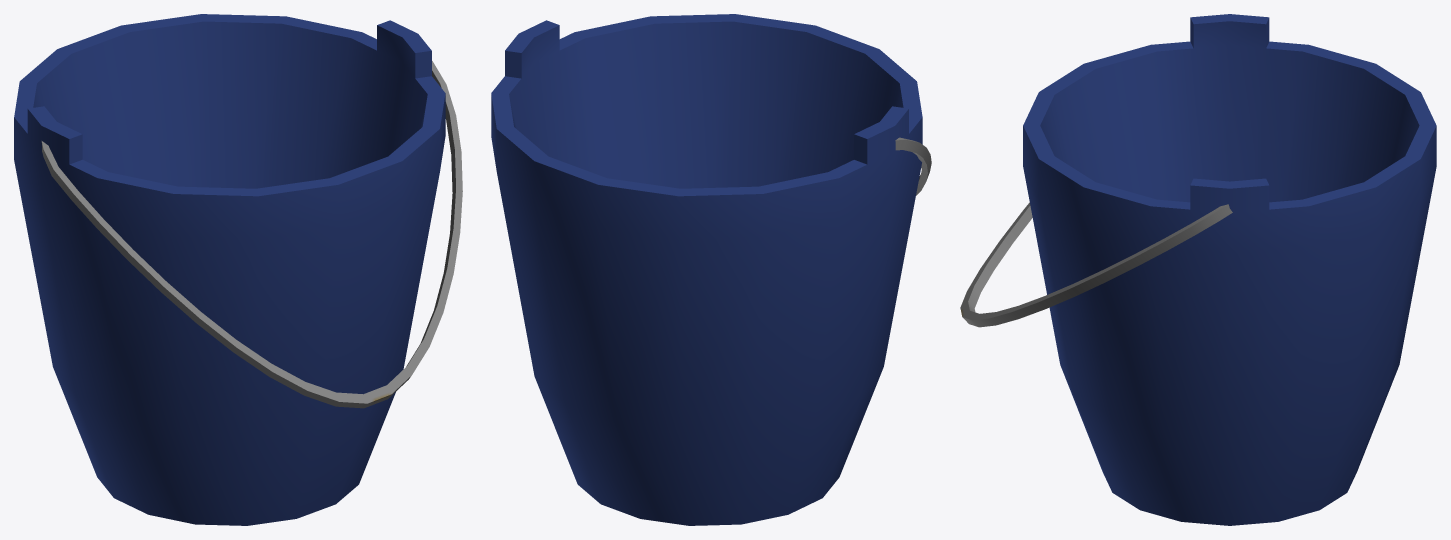
Rendered from Balde.fbx.
3 views of the same model, side by side, from view 1: azimuth 30°, elevation 25°; view 2: azimuth 150°, elevation 25°; view 3: azimuth 270°, elevation 25° (orthographic). The views are drawn at different scales.
Visible parts, largest first — view 1: Balde; view 2: Balde; view 3: Balde.
Part boxes in pixels (left/top/right/bottom): Balde: left=14, top=14, right=462, bottom=525; Balde: left=491, top=14, right=931, bottom=525; Balde: left=960, top=14, right=1436, bottom=525.
Size of the model in its own units: 252 by 241 by 280.
